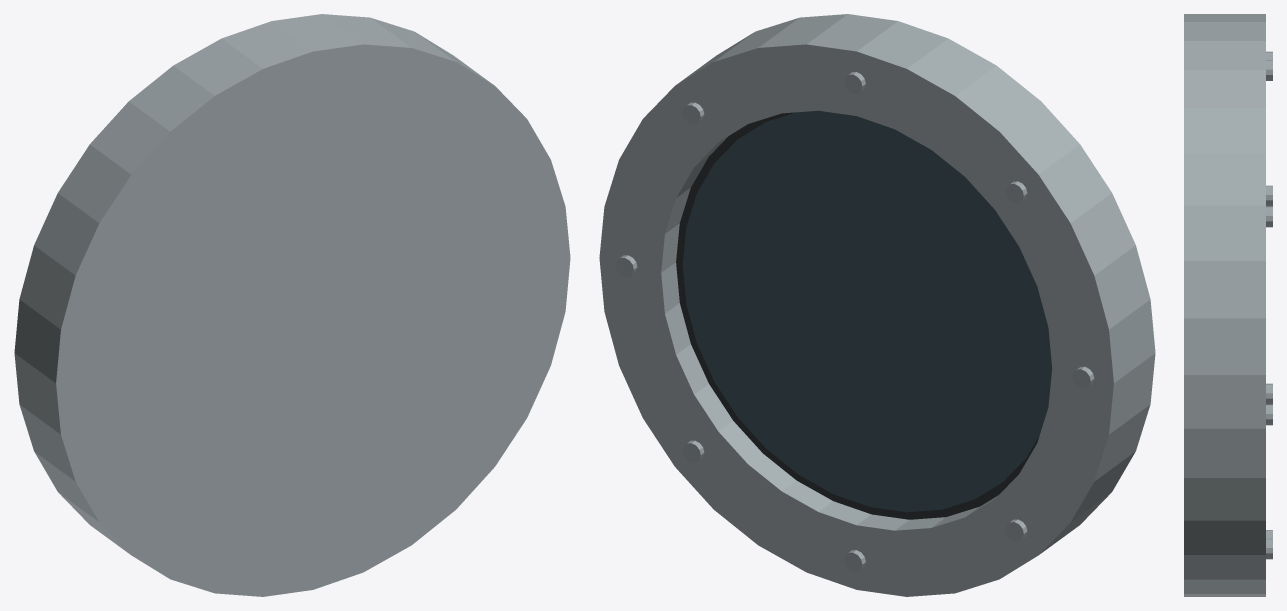
3 renders of one model, left to right at view 1: azimuth 30°, elevation 25°; view 2: azimuth 150°, elevation 25°; view 3: azimuth 270°, elevation 25°, orthographic.
Parts seen in each view (by area): view 1: component.root.mesh; view 2: component.root.mesh; view 3: component.root.mesh.
Part boxes in pixels (x1,y1,x2,y2): component.root.mesh: (14, 14, 570, 596); component.root.mesh: (599, 14, 1155, 596); component.root.mesh: (1184, 14, 1272, 596).
Bounding box in the file's own units: 0.5 × 0.5 × 0.076.
